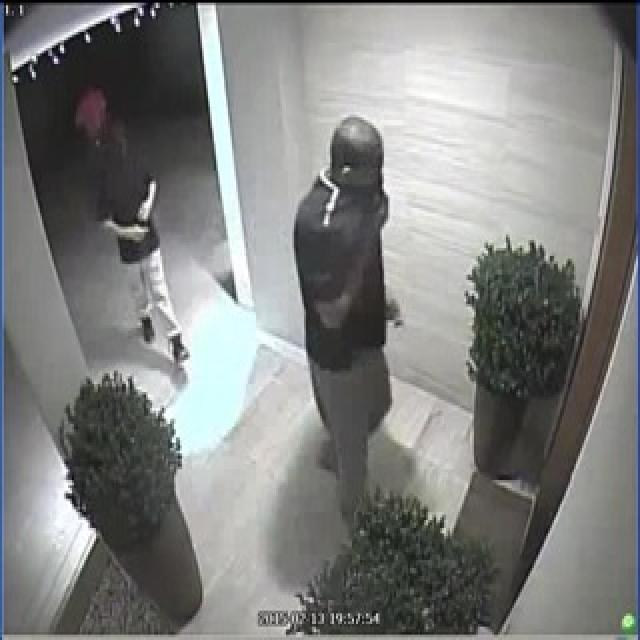thief: (288, 108, 398, 520), (75, 82, 196, 377)
